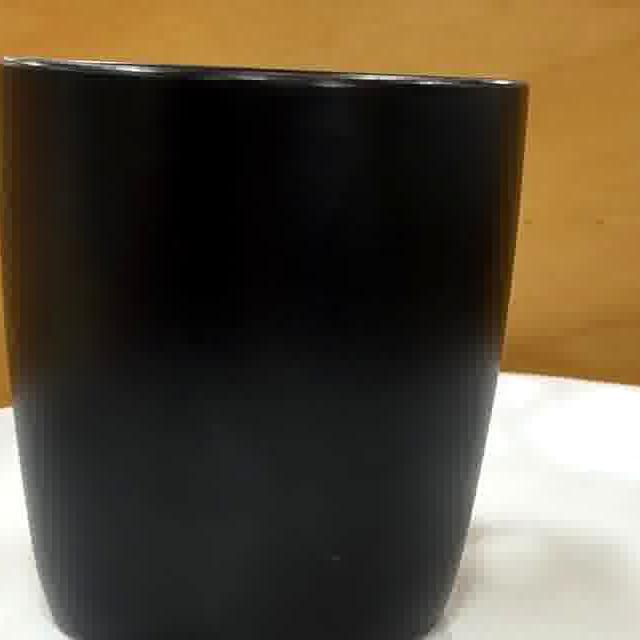cup: (5, 67, 521, 640)
